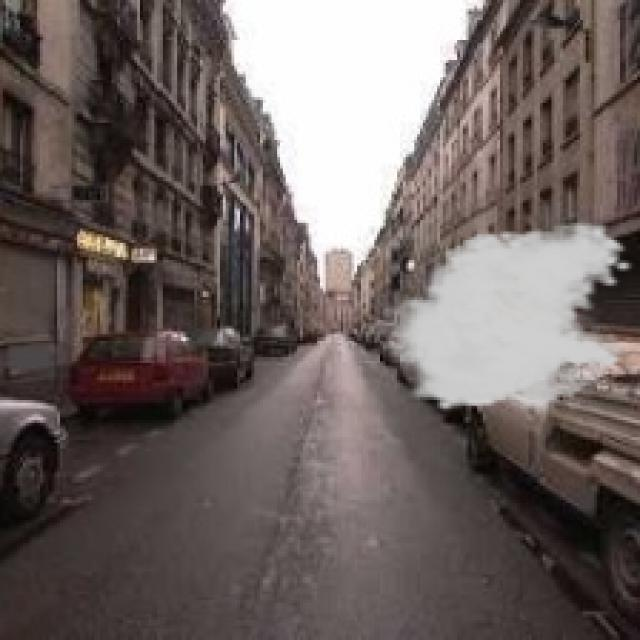Smoke: (374, 220, 634, 423)
